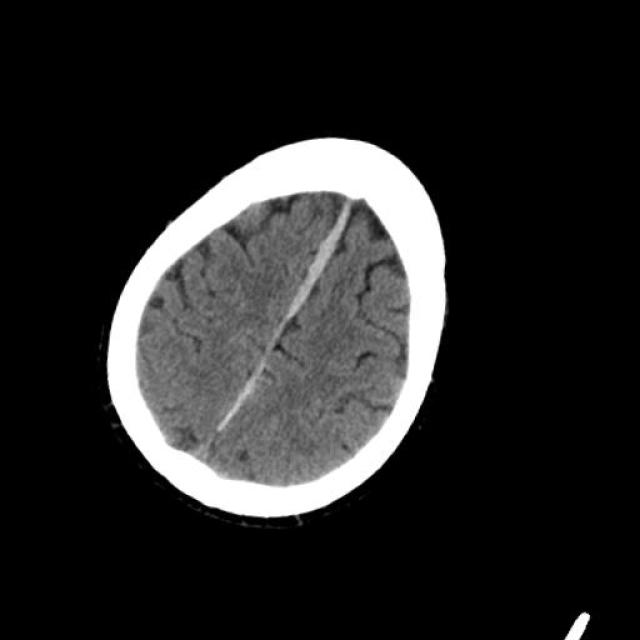Subdural: (204, 176, 380, 450)
